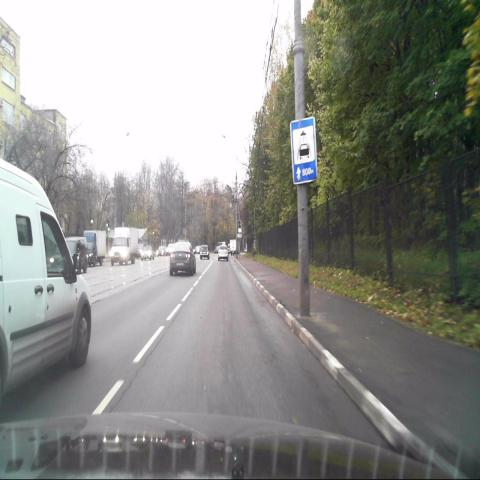7_5: (290, 117, 317, 186)
